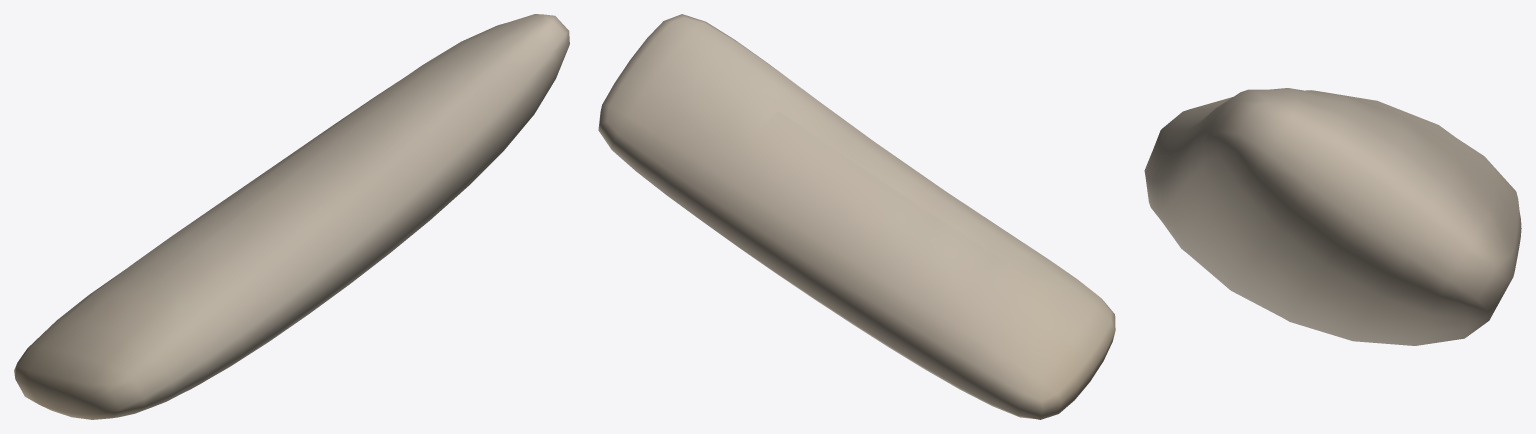
The picture shows the model from 3 angles, left to right: view 1: azimuth 30°, elevation 25°; view 2: azimuth 150°, elevation 25°; view 3: azimuth 270°, elevation 25°; orthographic projection. The views are drawn at different scales.
Visible parts, largest first — view 1: CC L1, CC L1 low; view 2: CC L1; view 3: CC L1.
Boxes of the visible parts, <box> form: CC L1: <box>14,14,569,419</box>; CC L1 low: <box>214,117,427,317</box>; CC L1: <box>598,14,1115,419</box>; CC L1: <box>1144,88,1521,345</box>.
Bounding box in the file's own units: 1.17 × 0.6486 × 0.4109.
Materials: 1 (1 with a texture image).
